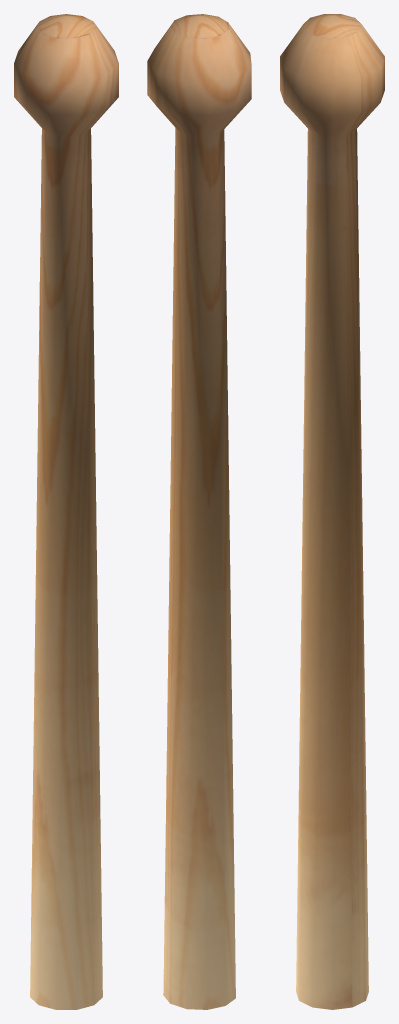
File: Drumstick_01_TL 1.FBX
3 renders of one model, left to right at view 1: azimuth 90°, elevation 25°; view 2: azimuth 150°, elevation 25°; view 3: azimuth 270°, elevation 25°, orthographic.
Visible parts, largest first — view 1: Drumstick; view 2: Drumstick; view 3: Drumstick.
Part boxes in pixels (box(x1,y1,x2,y2)): Drumstick: box(14, 14, 118, 1009); Drumstick: box(147, 14, 251, 1009); Drumstick: box(280, 14, 384, 1009).
Bounding box in the file's own units: 1.39 × 14.4 × 1.4.
